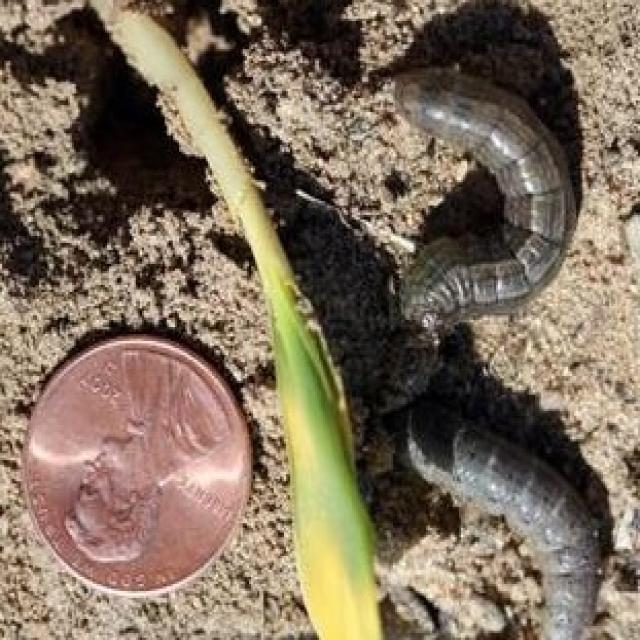army worm: (358, 62, 587, 342), (385, 405, 613, 639)
